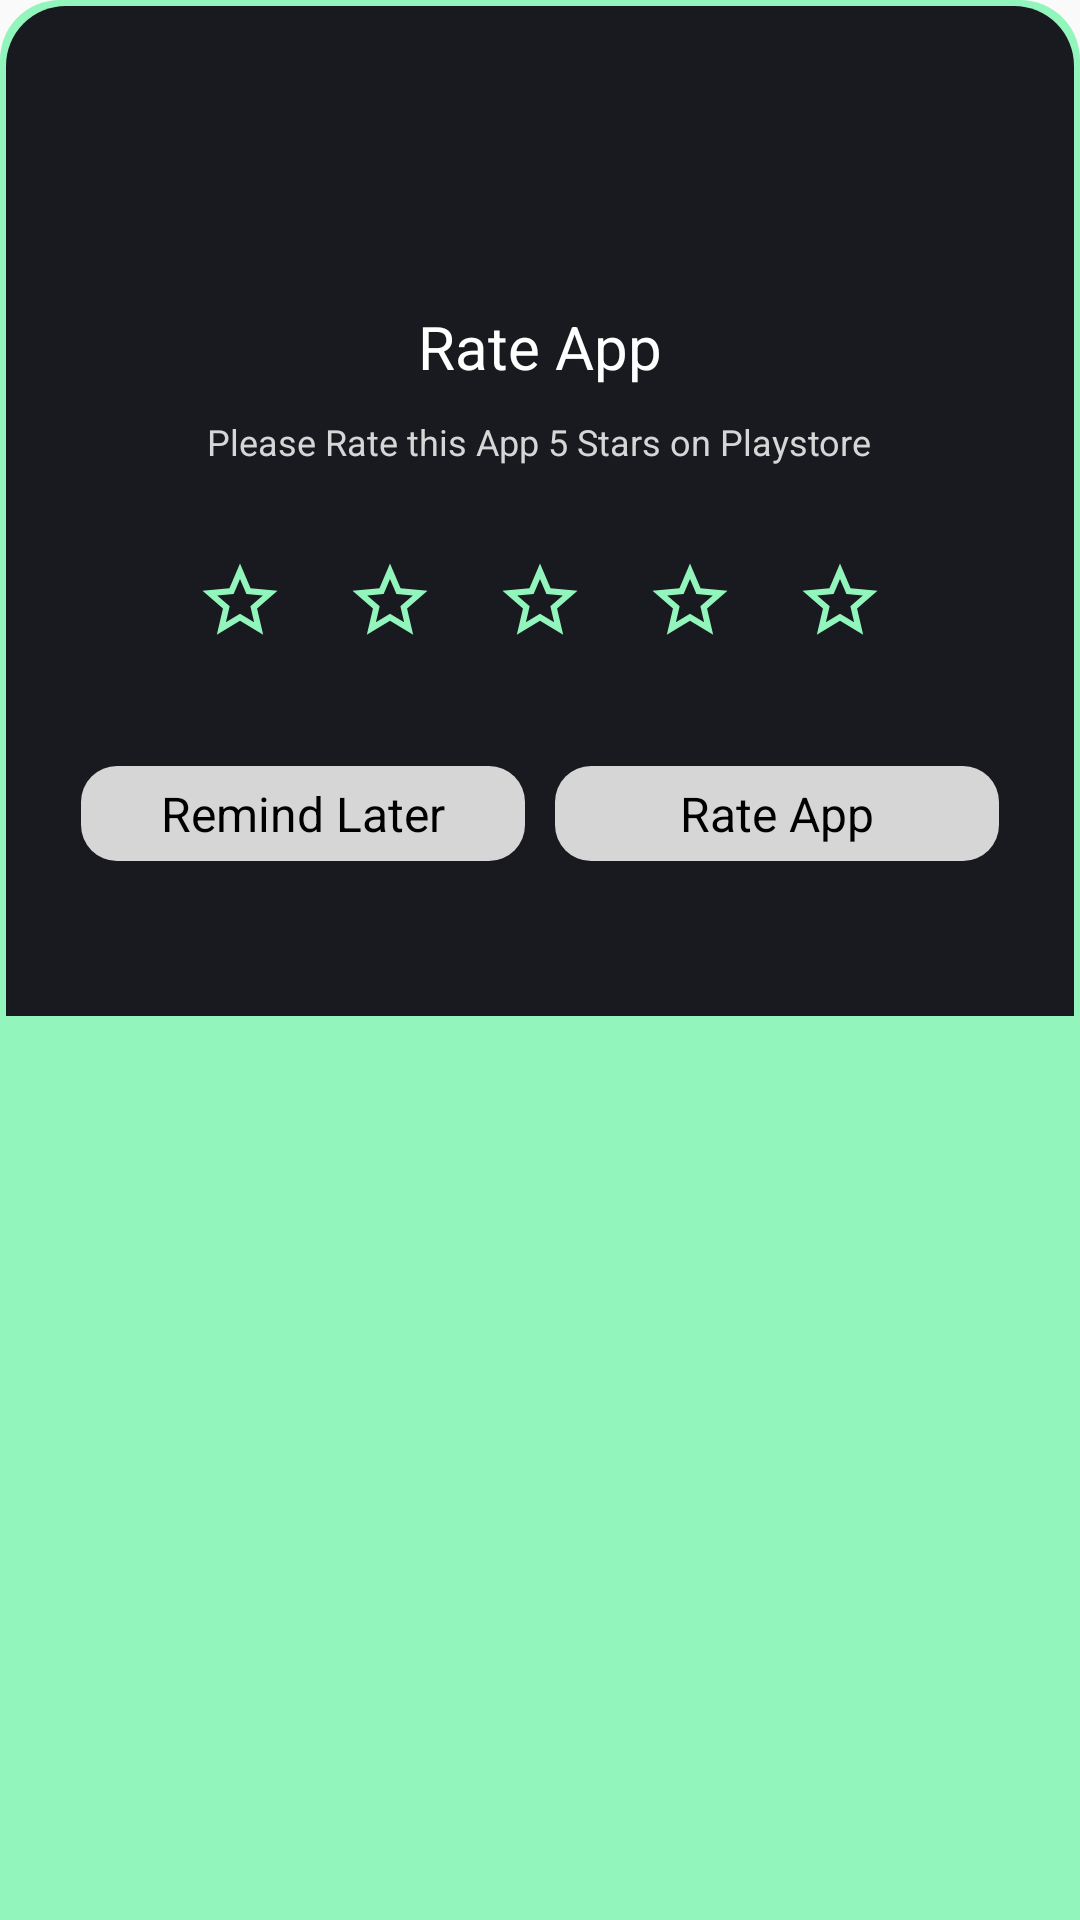

Icon bounding boxes for this 1080x1920 phone screenshot, format {"x1": x1, "y1": y1, "x2": x2, "y2": y2}:
star border: {"x1": 203, "y1": 564, "x2": 277, "y2": 635}, {"x1": 353, "y1": 564, "x2": 427, "y2": 635}, {"x1": 503, "y1": 564, "x2": 577, "y2": 635}, {"x1": 653, "y1": 564, "x2": 727, "y2": 635}, {"x1": 803, "y1": 564, "x2": 877, "y2": 635}
